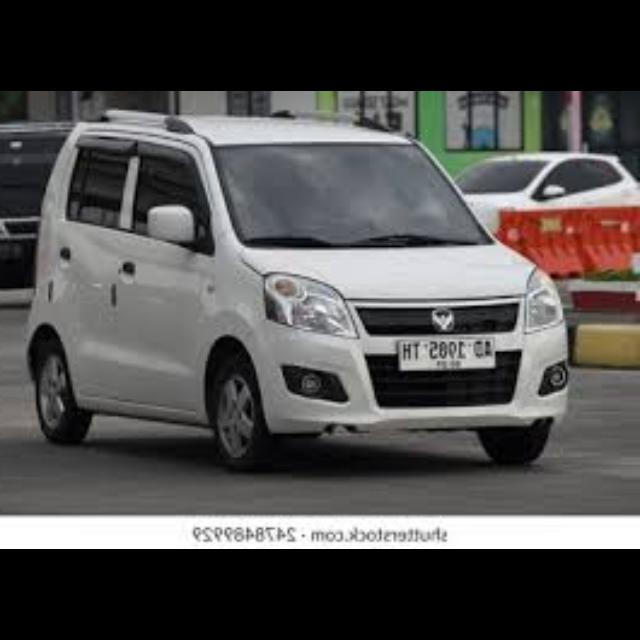vehicles: (15, 102, 621, 480), (454, 146, 640, 270)
